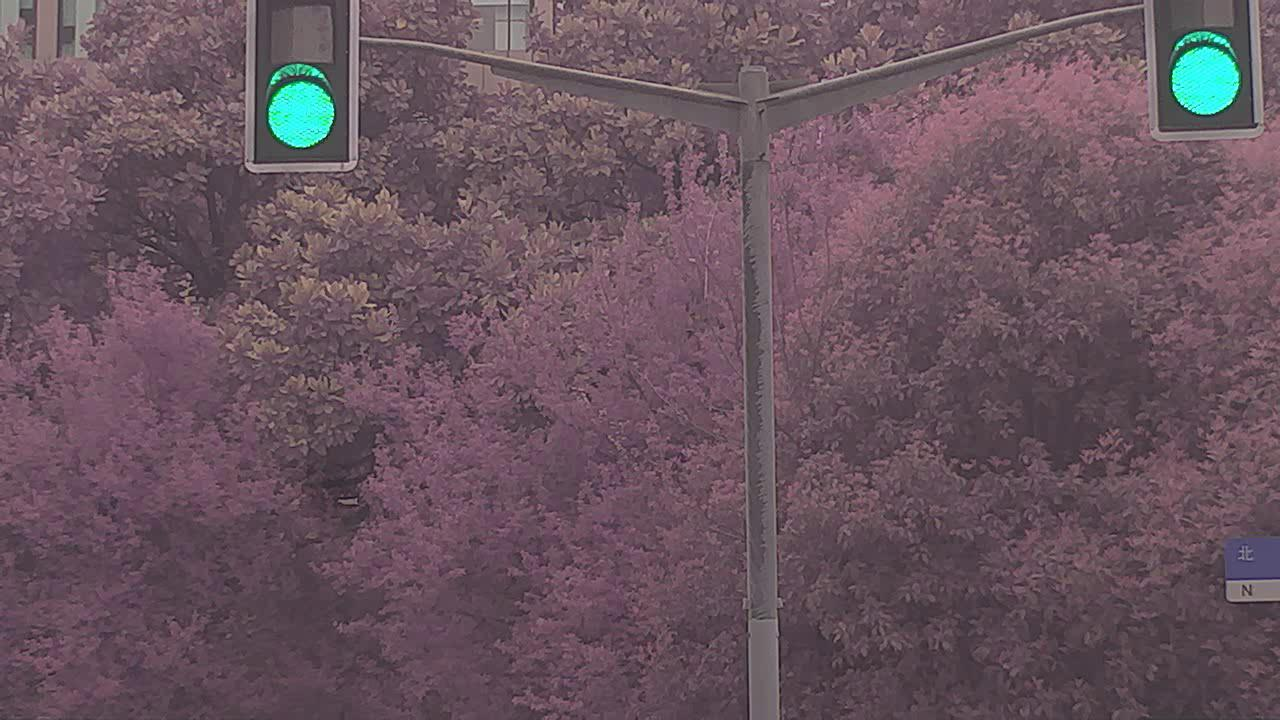traffic_light: (254, 1, 359, 165), (1152, 3, 1259, 131)
